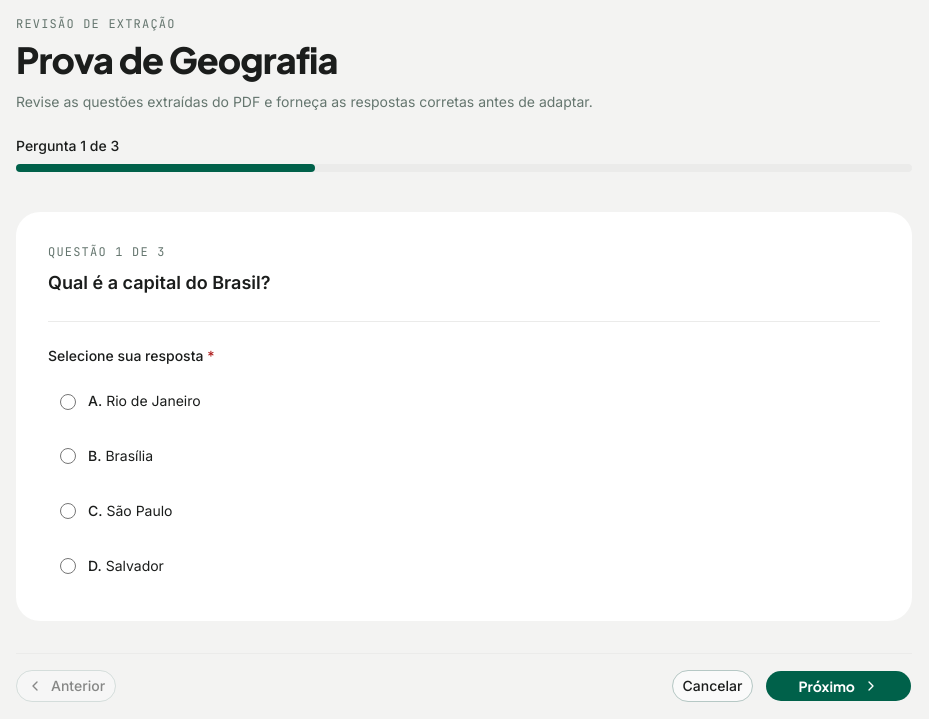
it: ExtractionForm › Navigation › should navigate to next question when answering and clicking Próximo
Expected: the text "Pergunta 1 de 3" is shown, [16, 137, 119, 154]
Expected: the heading "Qual é a capital do Brasil?" is shown, [48, 272, 270, 293]
Answer and navigate
Click the radio button with aria-label "Alternativa B: Brasília" at (68, 456), box [60, 448, 76, 464]
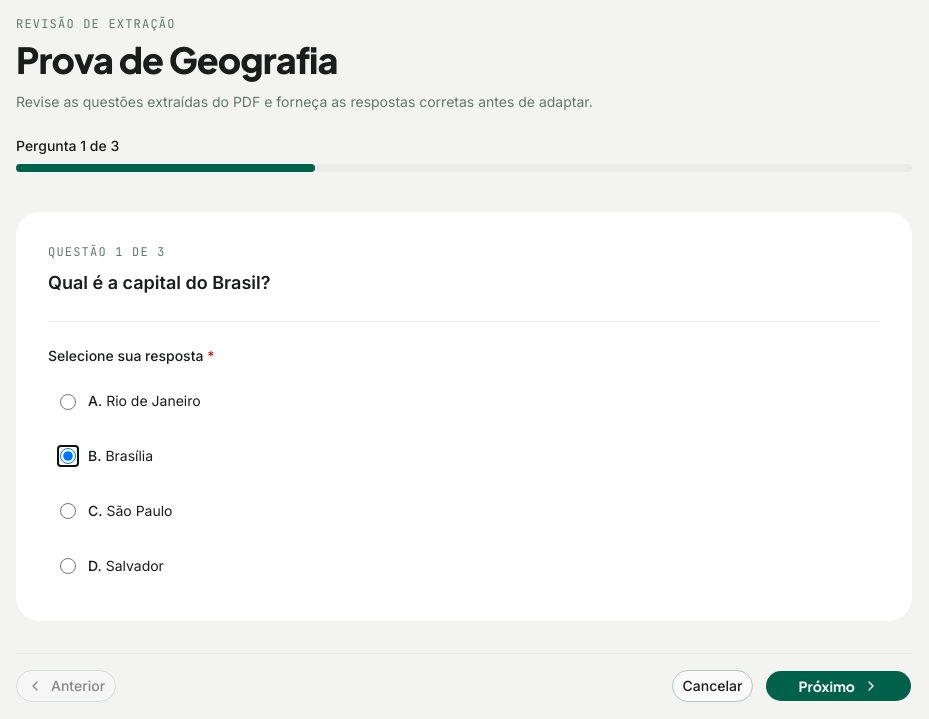
Click the button "Próximo" at (839, 686), box [765, 670, 912, 702]
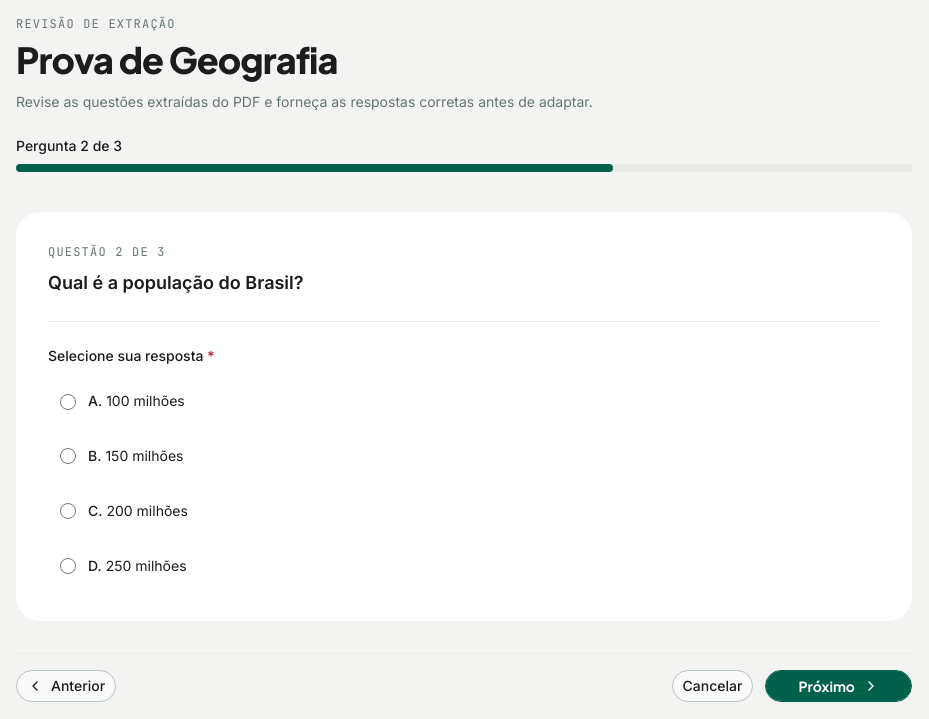
Now the text "Pergunta 2 de 3" is shown, box [16, 137, 122, 154]
Now the heading "Qual é a população do Brasil?" is shown, box [48, 272, 304, 293]
Now the heading "Qual é a capital do Brasil?" is gone
